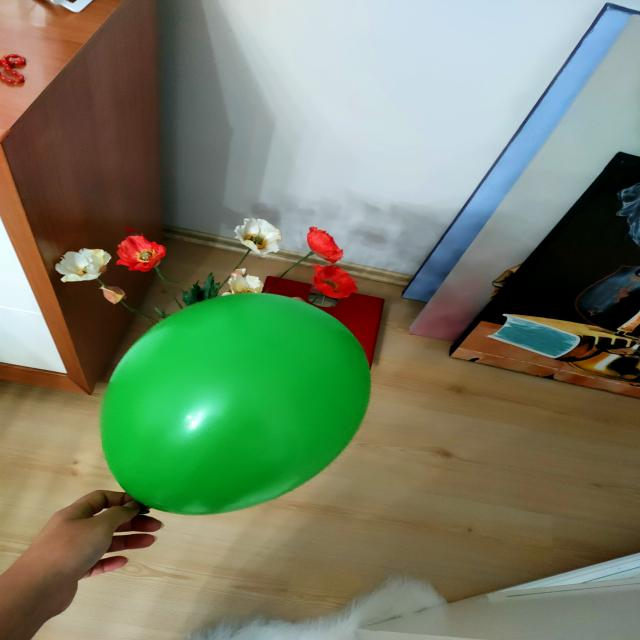green: (101, 294, 372, 516)
